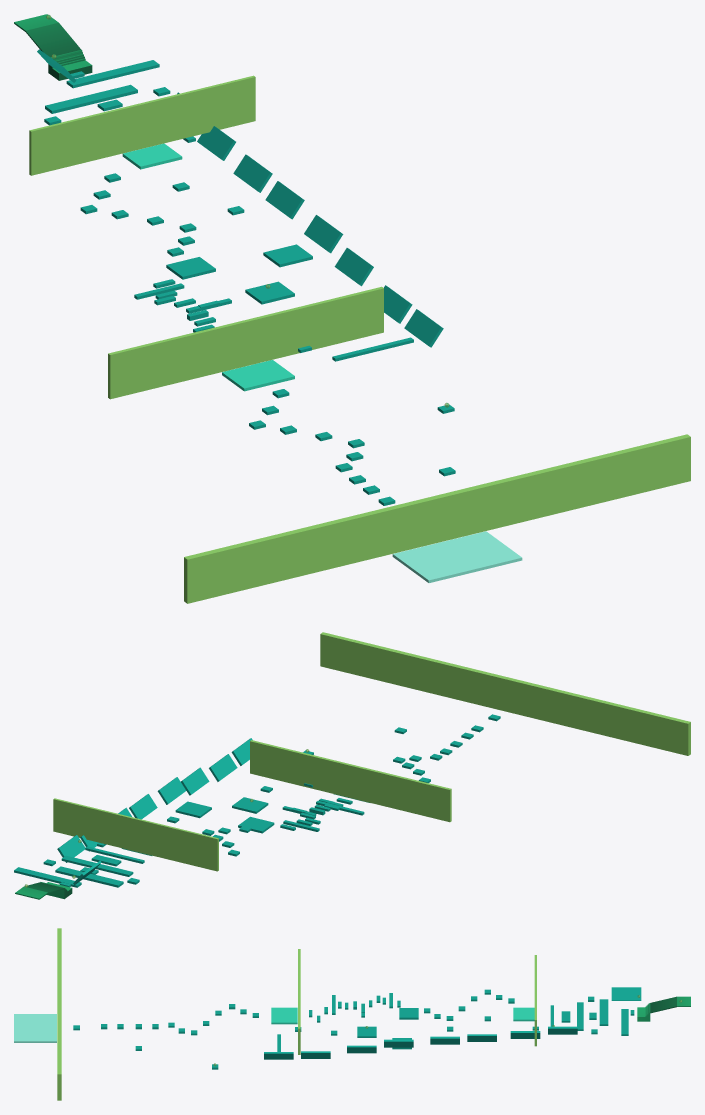
The model's file is level2.glb.
The picture shows the model from 3 angles, top to bottom: view 1: azimuth 30°, elevation 25°; view 2: azimuth 150°, elevation 25°; view 3: azimuth 270°, elevation 25°; orthographic projection. The views are drawn at different scales.
Parts seen in each view (by area): view 1: End_Wall.003, Checkpoint_Wall (×2), End, Checkpoint (×2), Ramp.001, Platform.018; view 2: End_Wall.003, Checkpoint_Wall (×2), Platform.018 (×7), Ramp.001; view 3: End, End_Wall.003, Checkpoint (×2), Ramp.001, Platform.018, Checkpoint_Wall.
Boxes of the visible parts, left/top/right/bottom form: End_Wall.003: left=184, top=434, right=690, bottom=603; Checkpoint_Wall (×2): left=29, top=75, right=383, bottom=399; End: left=392, top=531, right=522, bottom=582; Checkpoint (×2): left=122, top=143, right=294, bottom=391; Ramp.001: left=14, top=14, right=92, bottom=80; Platform.018: left=45, top=84, right=137, bottom=113; End_Wall.003: left=320, top=632, right=690, bottom=755; Checkpoint_Wall (×2): left=53, top=740, right=451, bottom=871; Platform.018 (×7): left=14, top=754, right=237, bottom=887; Ramp.001: left=15, top=882, right=72, bottom=899; End: left=14, top=1014, right=56, bottom=1042; End_Wall.003: left=57, top=928, right=61, bottom=1100; Checkpoint (×2): left=271, top=1007, right=534, bottom=1024; Ramp.001: left=637, top=996, right=690, bottom=1021; Platform.018: left=611, top=987, right=641, bottom=1000; Checkpoint_Wall: left=298, top=949, right=300, bottom=1054.
Size of the model in its own units: 348 by 80.34 by 680.
3 materials, 3 textured.
